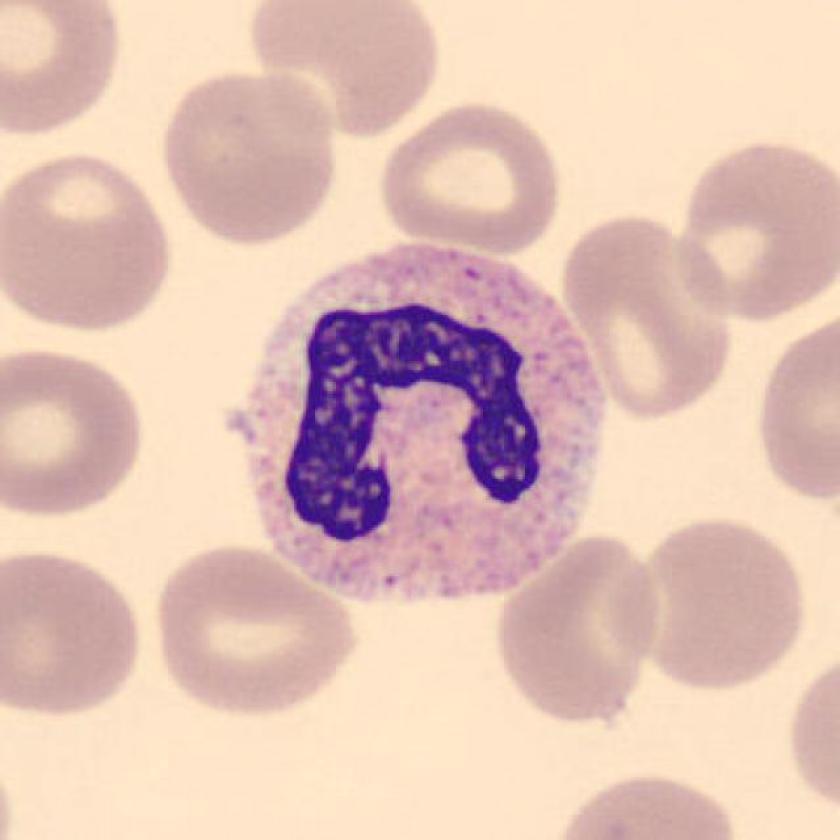neutrophil: (249, 242, 603, 601)
